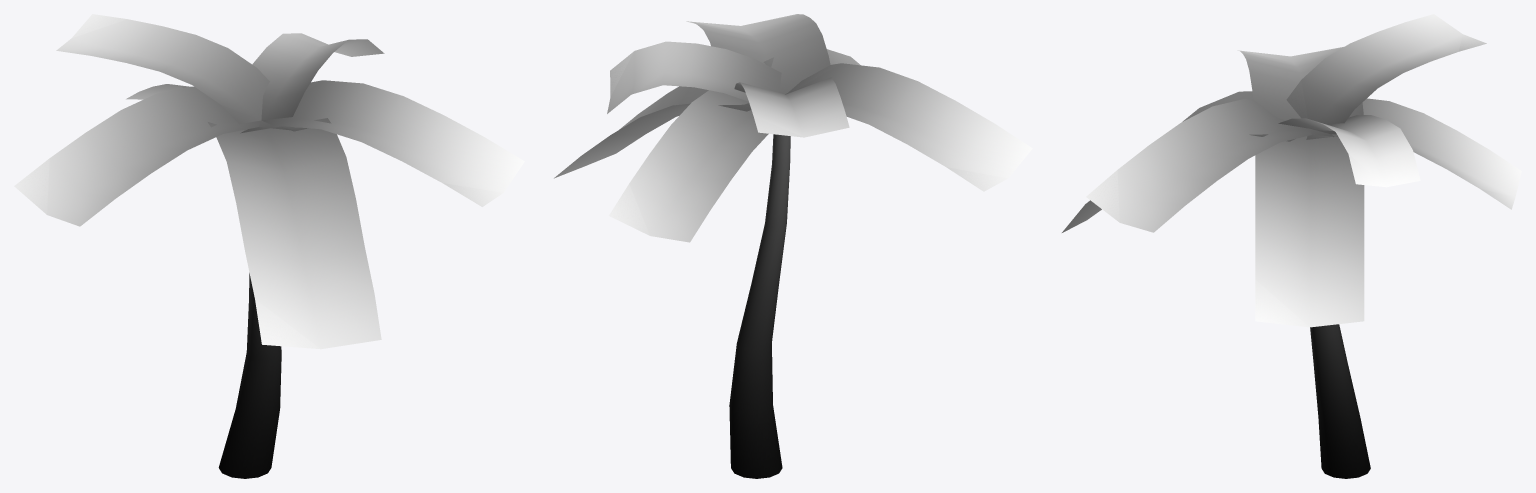
Rendered from PalmTreeMerged2.fbx.
The picture shows the model from 3 angles, left to right: view 1: azimuth 30°, elevation 25°; view 2: azimuth 150°, elevation 25°; view 3: azimuth 270°, elevation 25°; orthographic projection. The views are drawn at different scales.
Visible parts, largest first — view 1: tree3; view 2: tree3; view 3: tree3.
Part boxes in pixels (bbox=[...]): tree3: bbox=[14, 14, 524, 478]; tree3: bbox=[554, 14, 1032, 478]; tree3: bbox=[1062, 14, 1521, 478].
Size of the model in its own units: 10.86 by 10.09 by 10.78.
3 materials, 3 textured.
